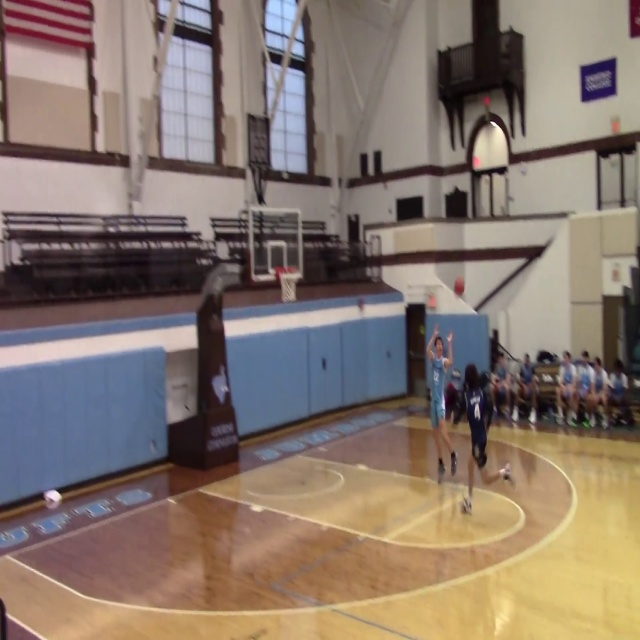Basketball: (44, 490, 62, 509), (445, 382, 458, 404), (454, 277, 464, 295)
